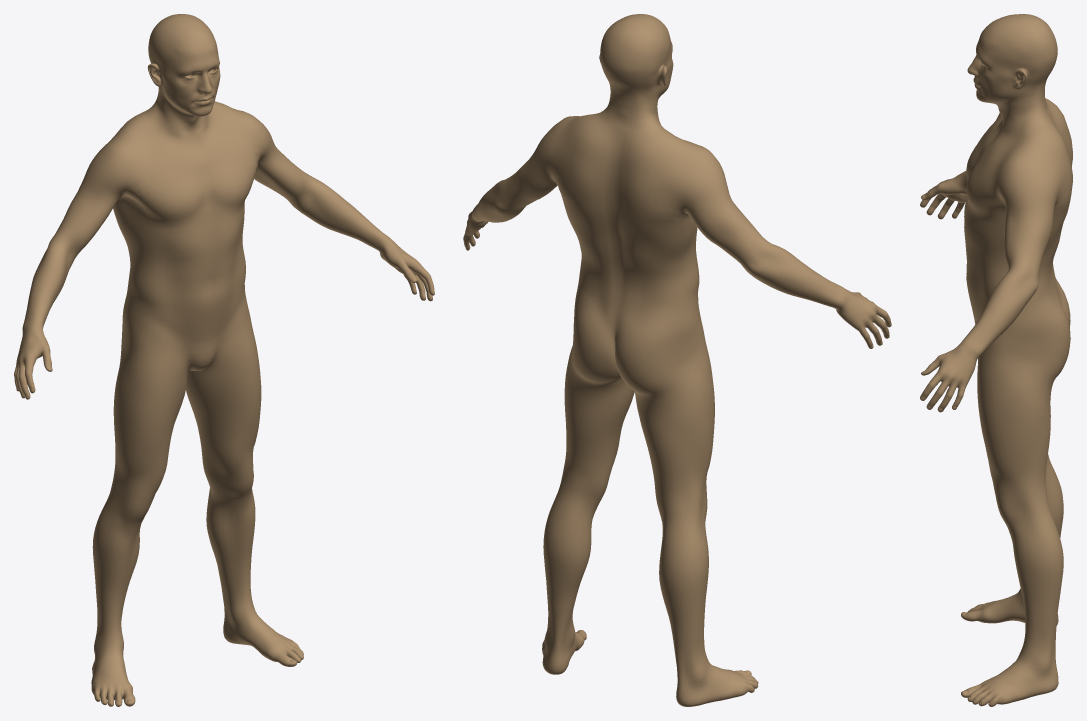
Rendered from Reference Human.fbx.
3 renders of one model, left to right at view 1: azimuth 30°, elevation 25°; view 2: azimuth 150°, elevation 25°; view 3: azimuth 270°, elevation 25°, orthographic. The views are drawn at different scales.
Visible parts, largest first — view 1: HG_Body; view 2: HG_Body; view 3: HG_Body.
Part boxes in pixels (box(x1,y1,x2,y2)): HG_Body: box(14, 14, 434, 706); HG_Body: box(463, 14, 891, 706); HG_Body: box(920, 14, 1072, 706).
Bounding box in the file's own units: 119 × 180 × 38.87.
